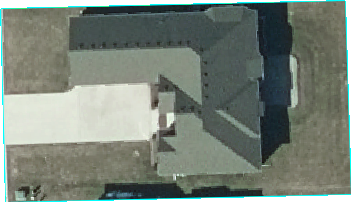house: (59, 5, 266, 178)
